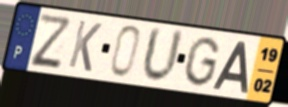0: (107, 23, 145, 81)
A: (210, 39, 250, 95)
G: (181, 35, 222, 89)
K: (66, 18, 104, 75)
U: (139, 24, 186, 86)
Z: (29, 12, 72, 69)
